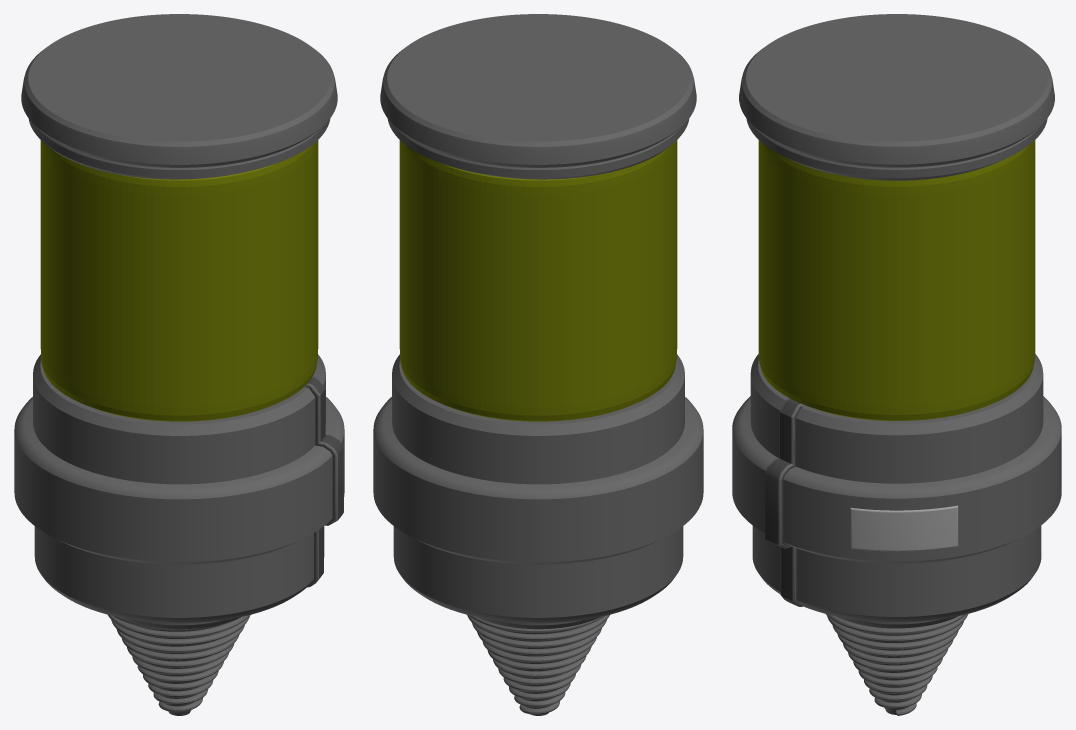
Rendered from Battery_Smaller.fbx.
The picture shows the model from 3 angles, left to right: view 1: azimuth 30°, elevation 25°; view 2: azimuth 150°, elevation 25°; view 3: azimuth 270°, elevation 25°; orthographic projection.
Visible parts, largest first — view 1: Cylinder, Cylinder.001; view 2: Cylinder, Cylinder.001; view 3: Cylinder, Cylinder.001.
Part boxes in pixels (x1=…): Cylinder: x1=14, y1=14, x2=344, y2=715; Cylinder.001: x1=40, y1=140, x2=318, y2=421; Cylinder: x1=373, y1=14, x2=703, y2=715; Cylinder.001: x1=399, y1=140, x2=677, y2=421; Cylinder: x1=732, y1=14, x2=1061, y2=715; Cylinder.001: x1=758, y1=140, x2=1035, y2=420.
Bounding box in the file's own units: 114 × 241 × 114.
